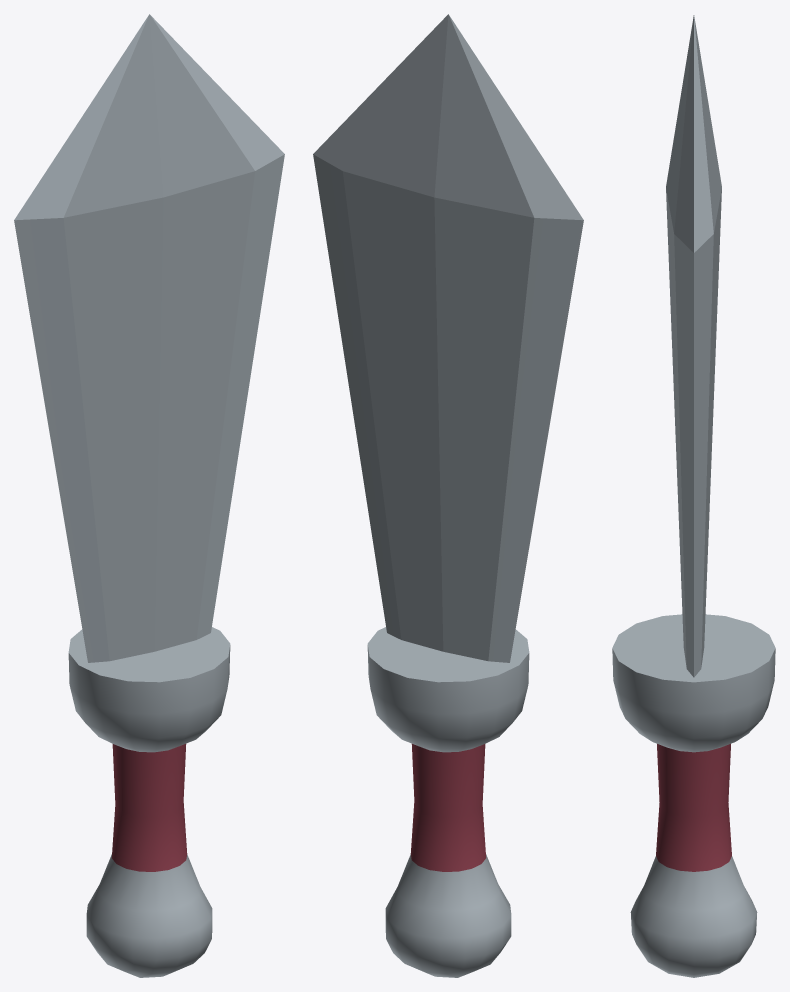
Rendered from Sword.fbx.
3 views of the same model, side by side, from view 1: azimuth 30°, elevation 25°; view 2: azimuth 150°, elevation 25°; view 3: azimuth 270°, elevation 25° (orthographic).
Parts seen in each view (by area): view 1: Sword; view 2: Sword; view 3: Sword.
Boxes of the visible parts, x1,y1,x2,y2 form: Sword: (14,14,284,977); Sword: (313,14,583,977); Sword: (612,15,775,977).
Size of the model in its own units: 0.2491 by 0.8411 by 0.1301.
